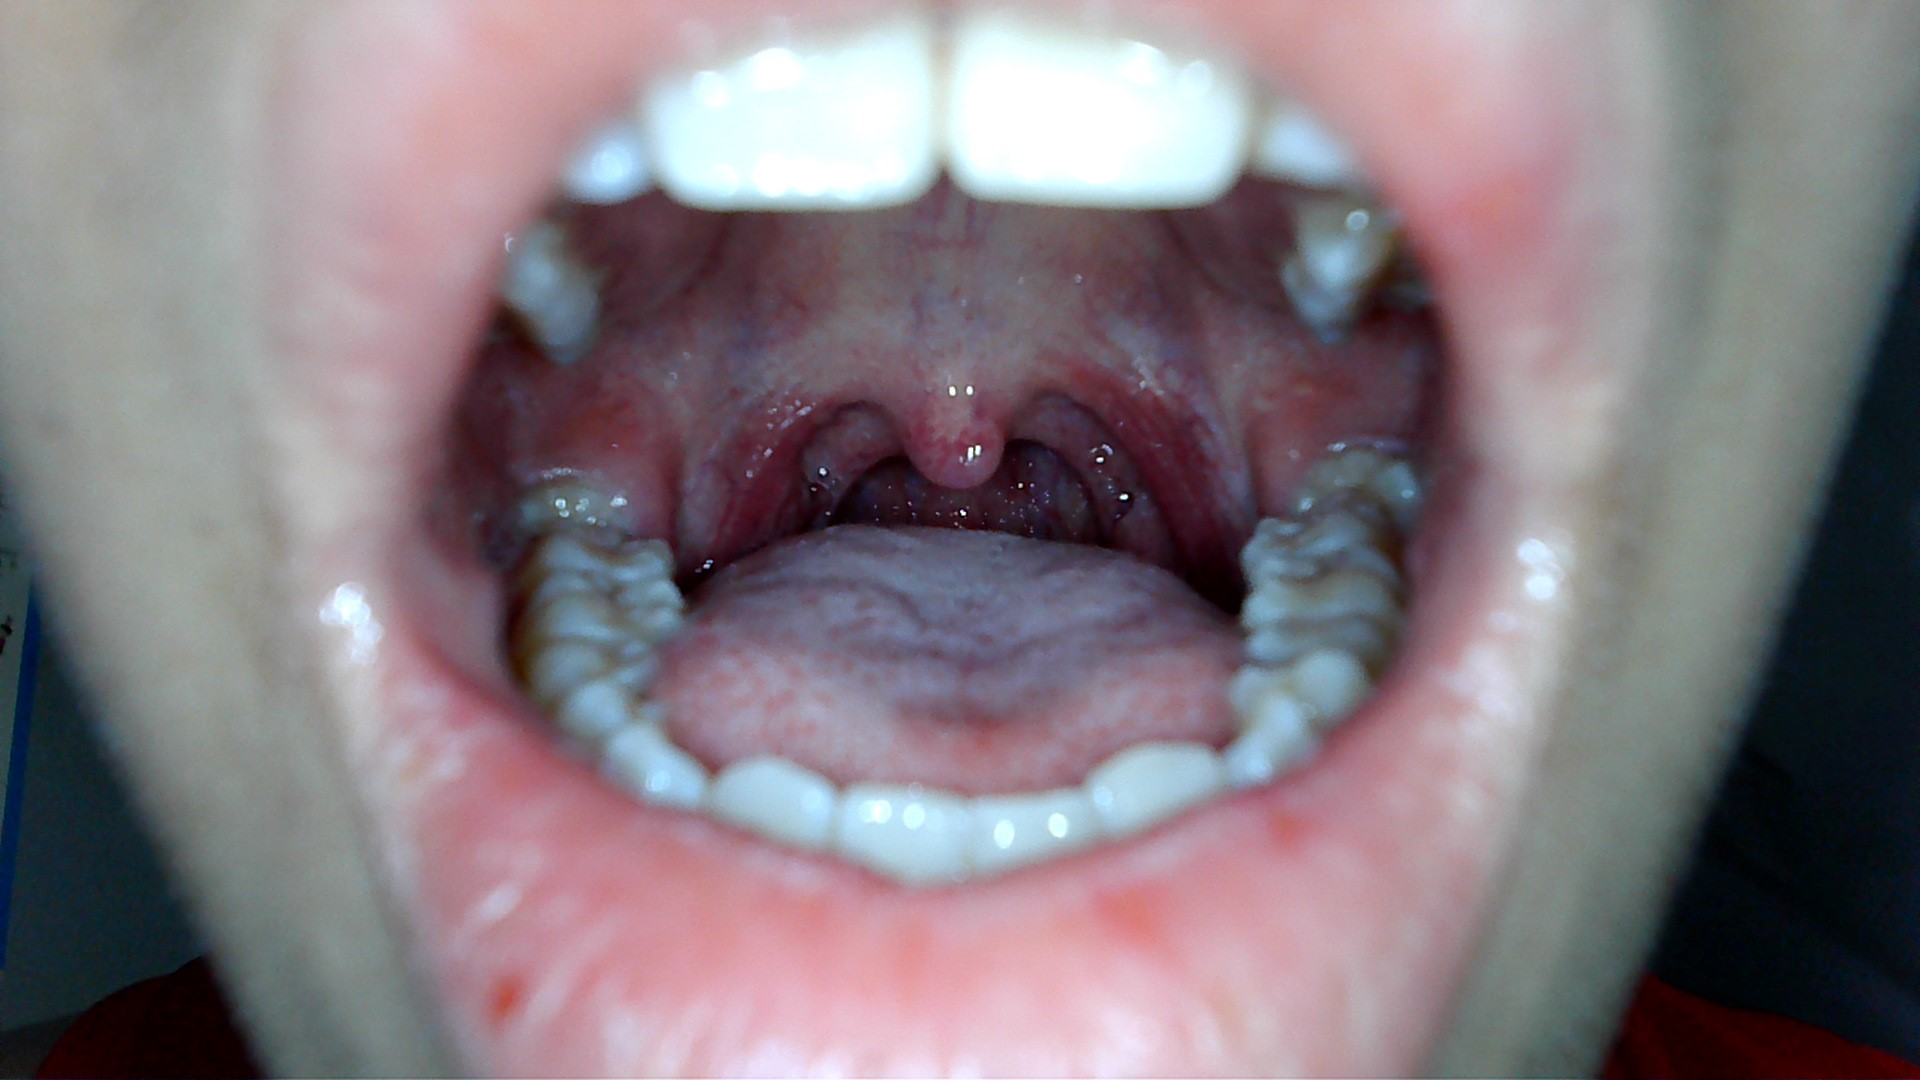throat: (1077, 344, 1211, 541), (723, 348, 829, 520)
